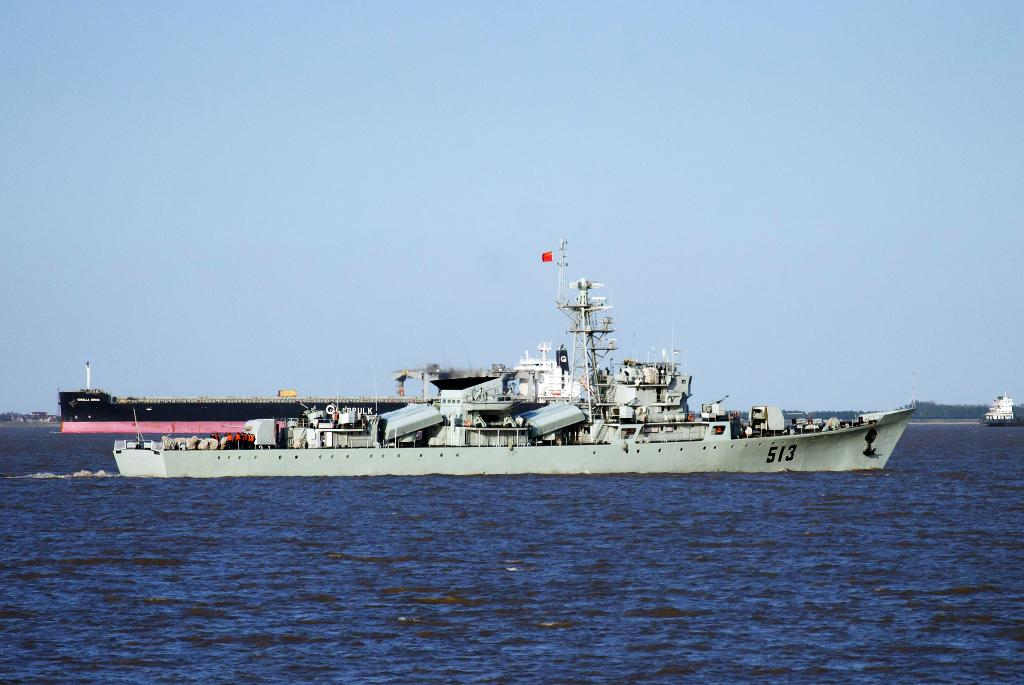Warship: (111, 233, 919, 481)
